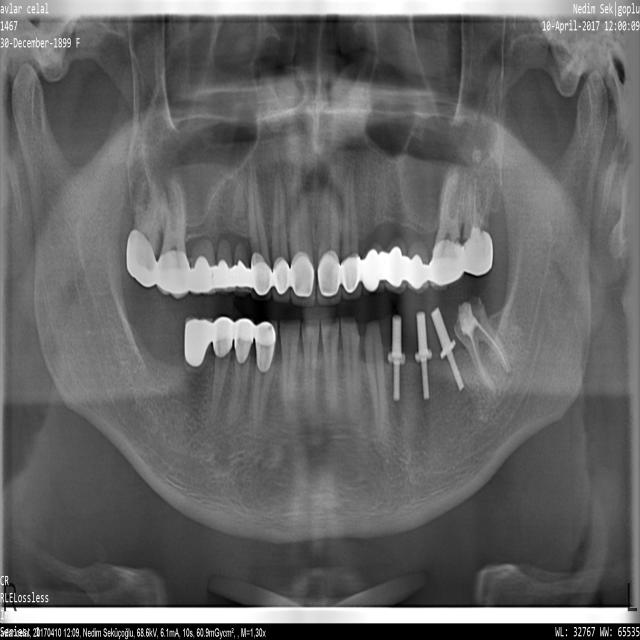Canine: (248, 145, 272, 300), (362, 166, 385, 294), (254, 320, 277, 438), (365, 322, 386, 448)
Incisores: (290, 134, 315, 306), (317, 158, 341, 305), (341, 155, 362, 300), (273, 172, 290, 302), (280, 320, 300, 420), (340, 317, 359, 422), (321, 318, 339, 408), (302, 320, 320, 409)
Premolars: (384, 172, 407, 293), (226, 322, 250, 428), (233, 171, 251, 296), (210, 319, 231, 424), (216, 192, 232, 295), (388, 314, 405, 401), (416, 312, 432, 399)
molars: (454, 298, 511, 401), (430, 168, 467, 290), (157, 177, 189, 298), (130, 176, 161, 285), (183, 318, 213, 411), (405, 189, 431, 293), (432, 308, 464, 391), (191, 196, 217, 294), (463, 182, 491, 272)
